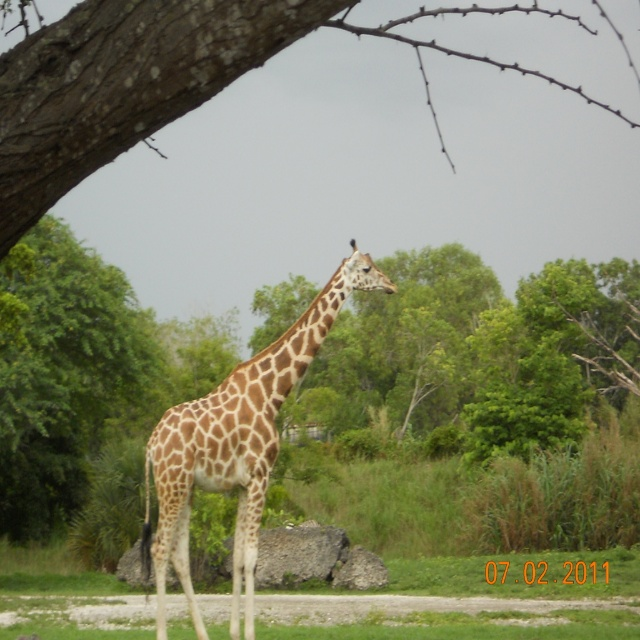Giraffe: (141, 237, 397, 639)
